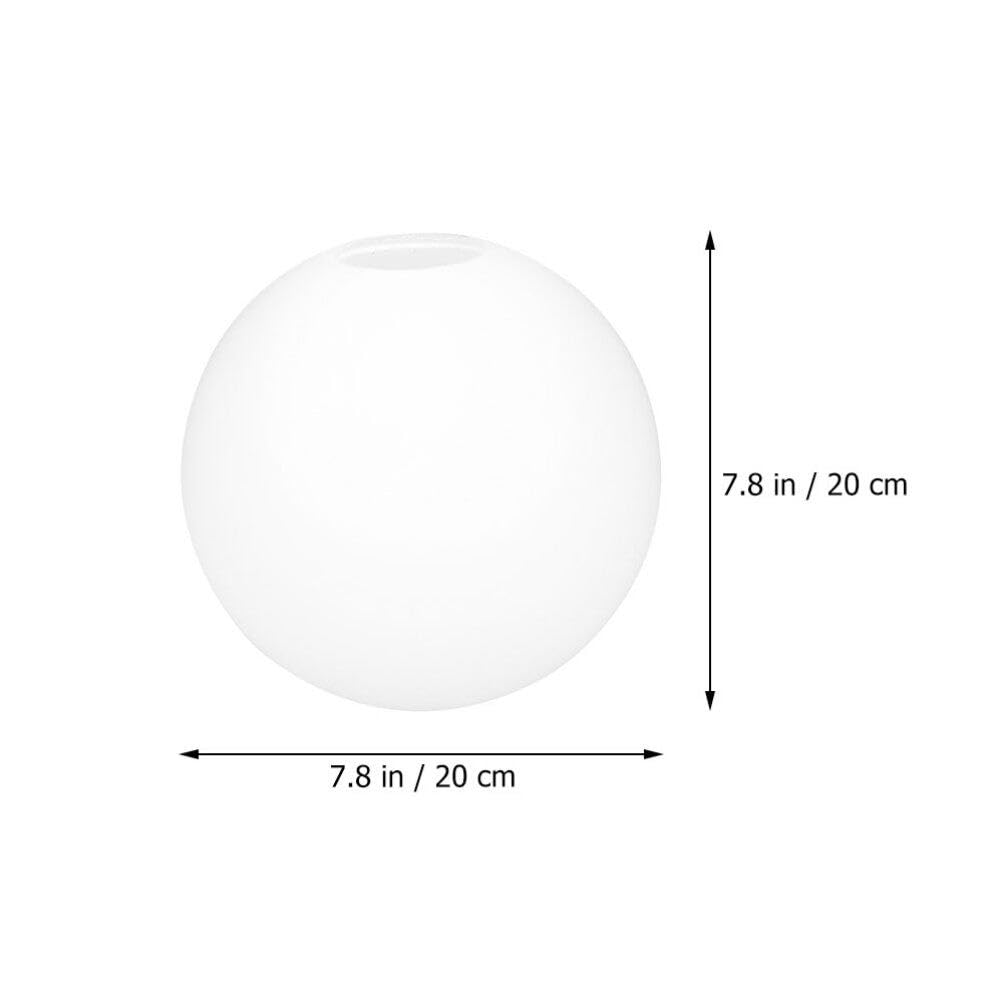/: (811, 472, 816, 500), (419, 764, 424, 792)
20: (436, 765, 467, 787)
20cm: (828, 473, 907, 496)
7.8: (723, 473, 762, 496), (331, 765, 370, 788)
cm: (478, 770, 514, 787)
in: (775, 473, 795, 495), (383, 765, 402, 787)
